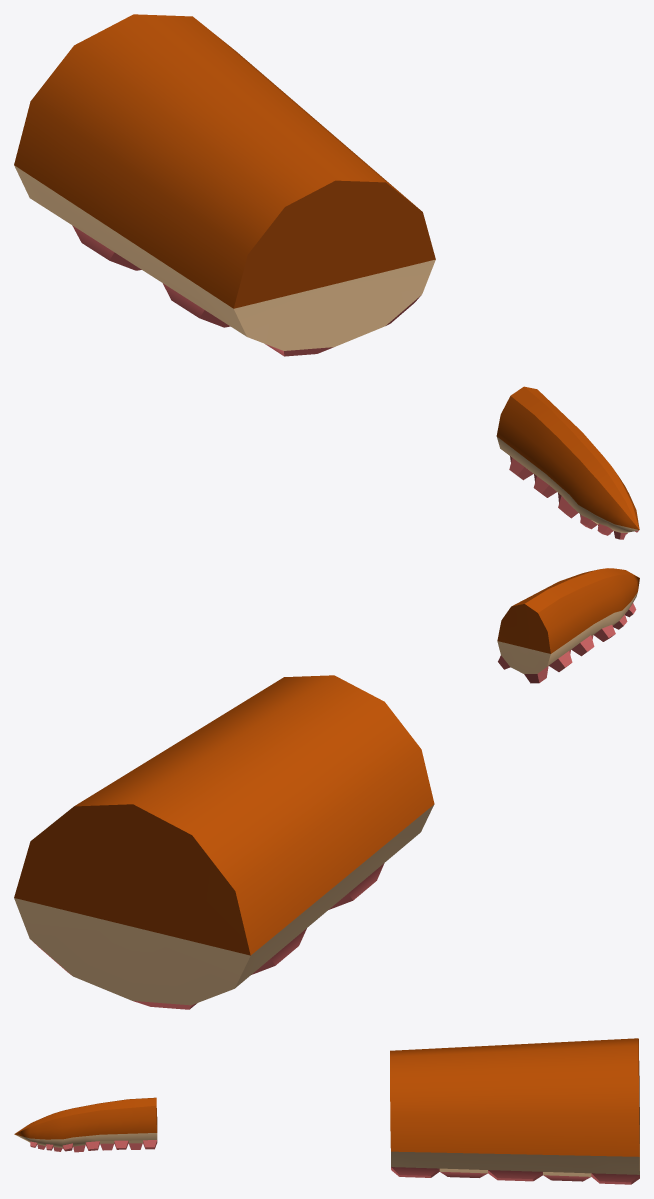
File: tentacles.fbx
3 renders of one model, top to bottom at view 1: azimuth 30°, elevation 25°; view 2: azimuth 150°, elevation 25°; view 3: azimuth 270°, elevation 25°, orthographic. The views are drawn at different scales.
Visible parts, largest first — view 1: polySurface2, polySurface1; view 2: polySurface2, polySurface1; view 3: polySurface2, polySurface1.
Part boxes in pixels (left/top/right/bottom): polySurface2: left=14, top=14, right=435, bottom=356; polySurface1: left=496, top=386, right=639, bottom=539; polySurface2: left=14, top=675, right=434, bottom=1009; polySurface1: left=497, top=568, right=639, bottom=683; polySurface2: left=390, top=1038, right=639, bottom=1184; polySurface1: left=14, top=1097, right=157, bottom=1152.
Size of the model in its own units: 2.67 by 2.2 by 9.9.
